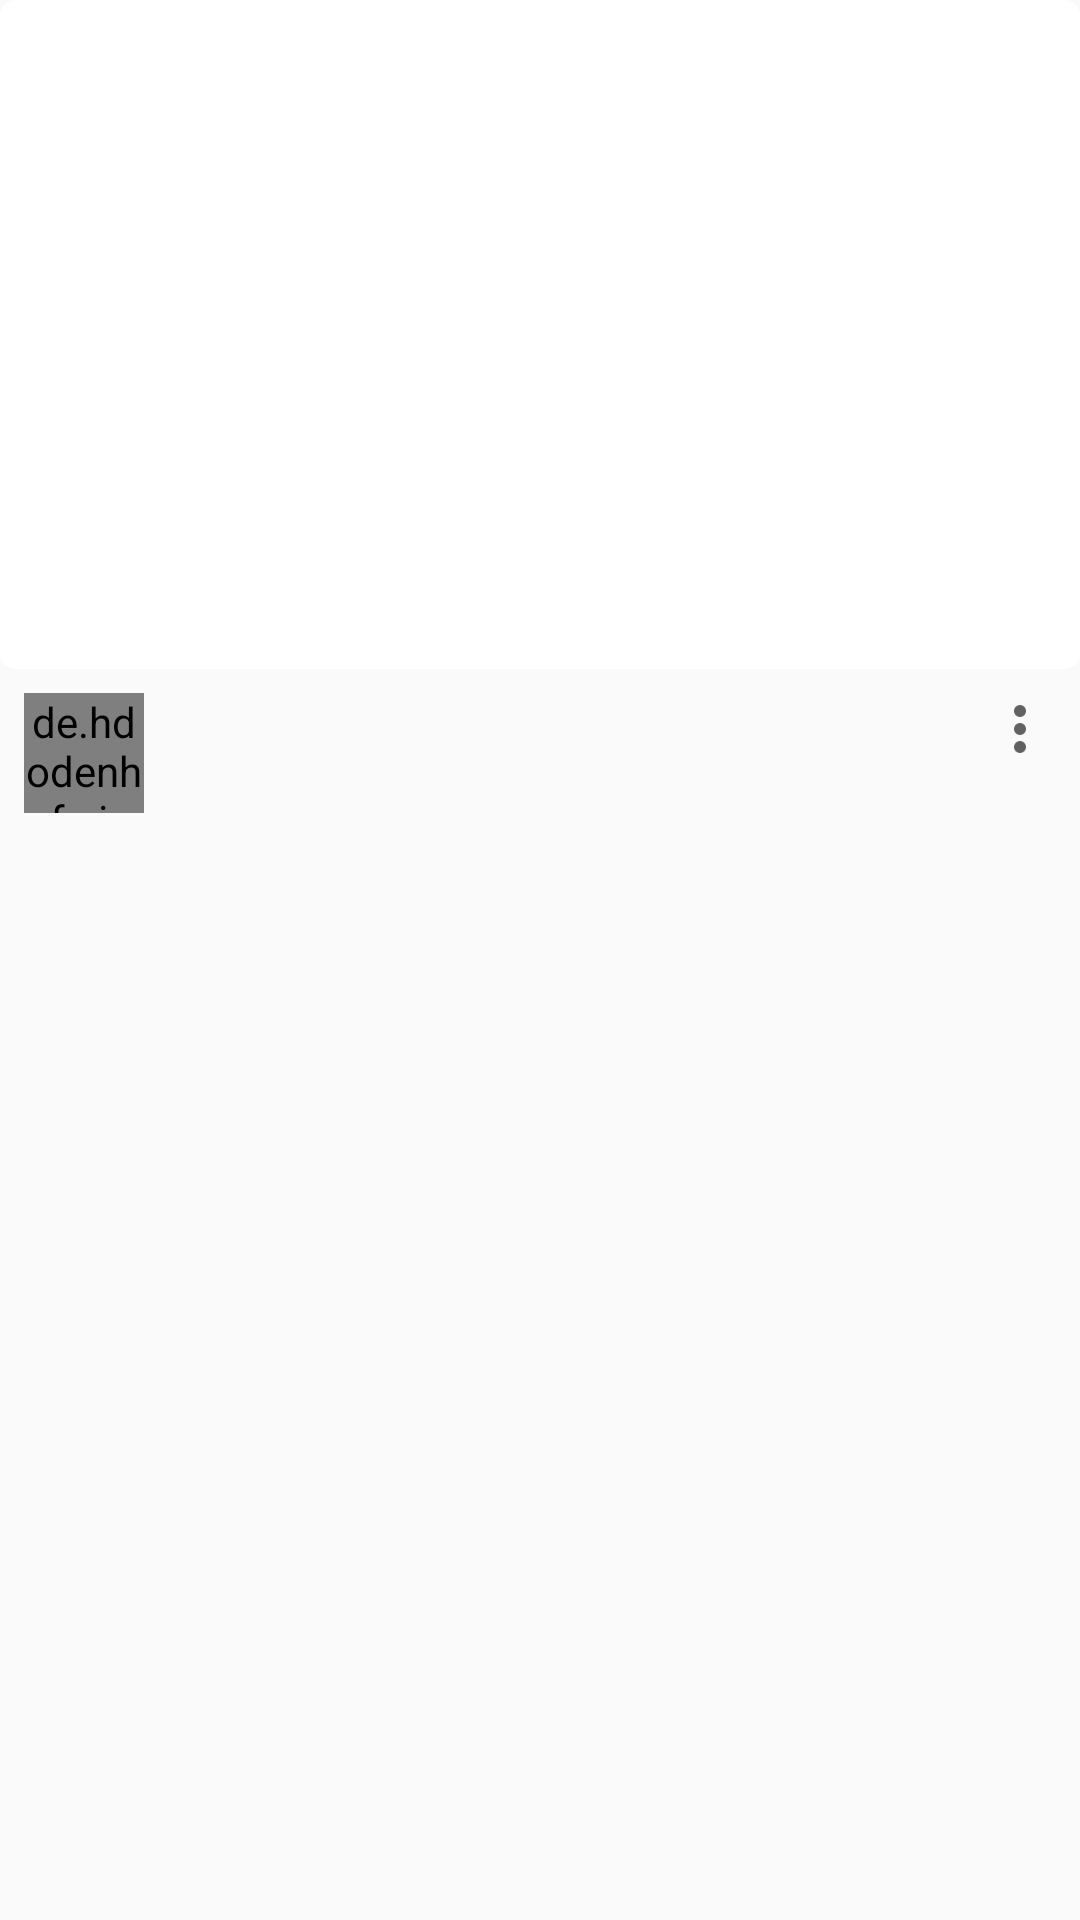

Point at icon controls on the screen. Image size 1080x1920, points as (x,y).
more vert: (1020,729)
